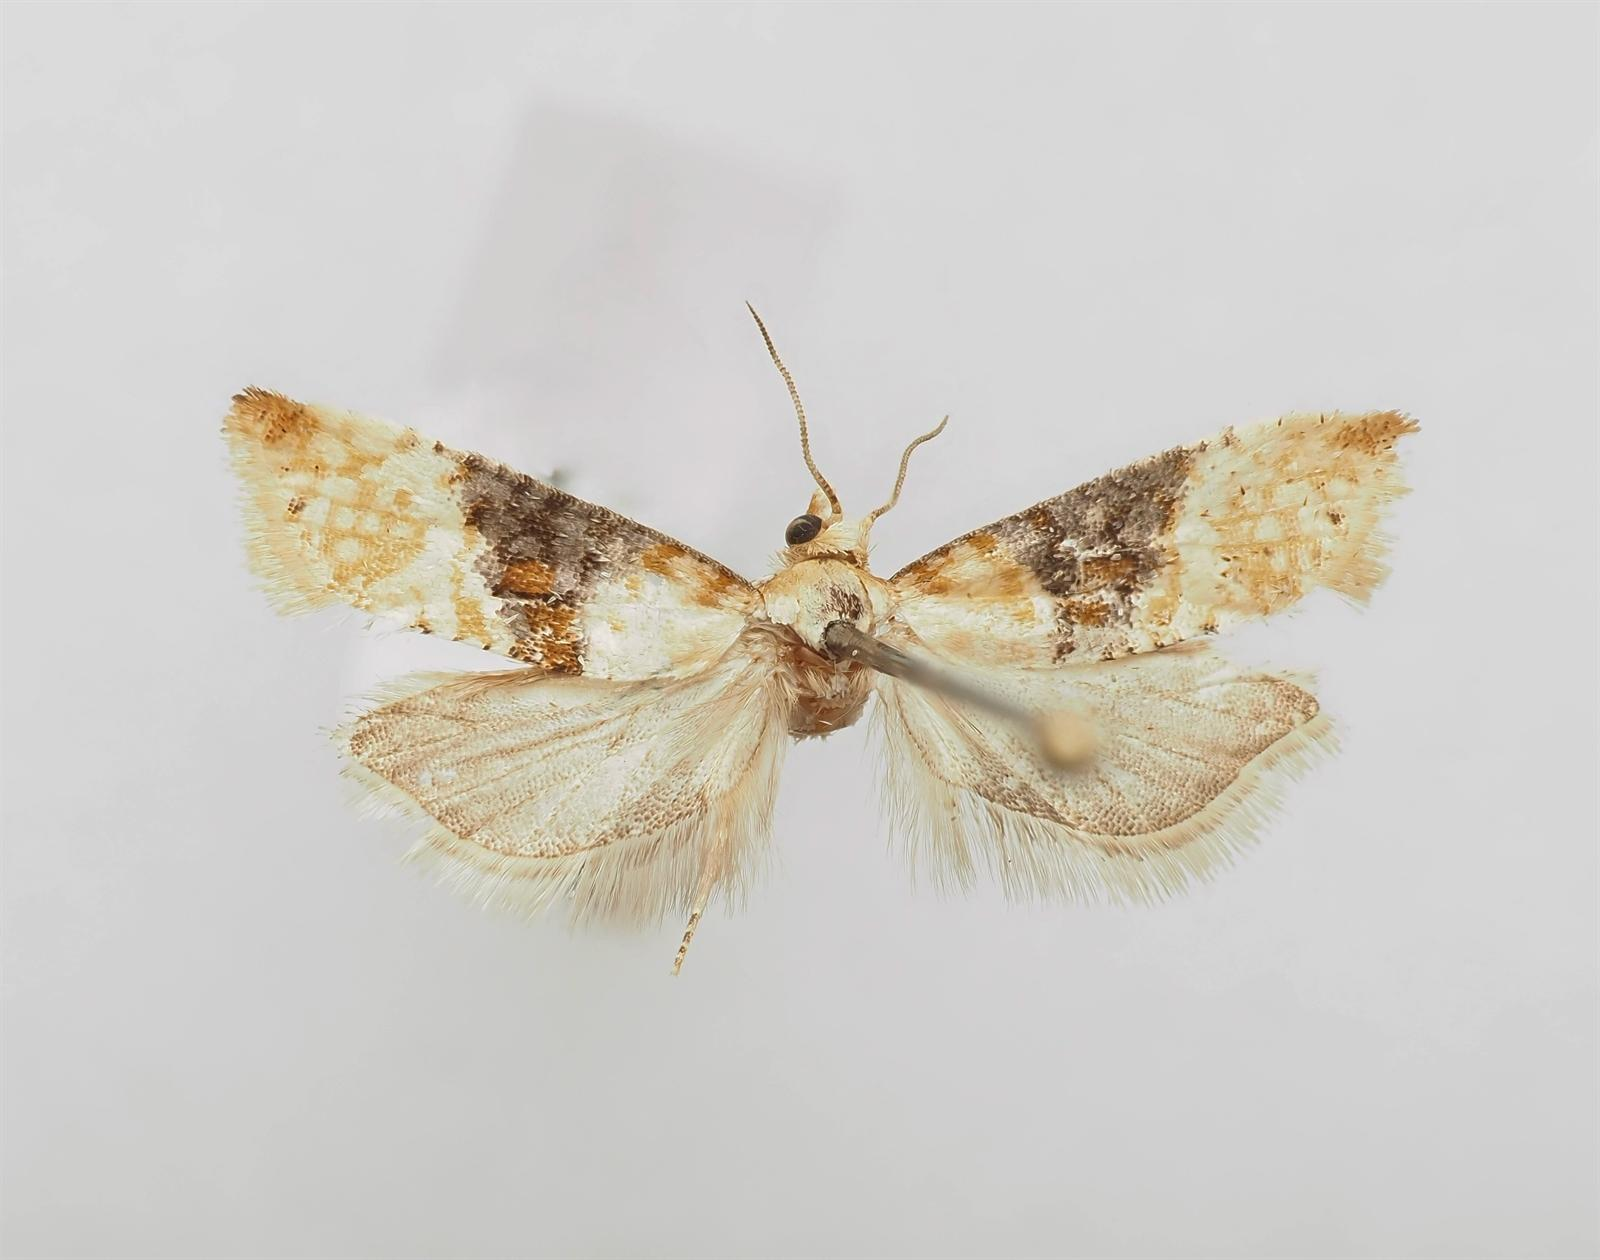Eupoecilia Ambiguella: (216, 296, 1423, 977)
